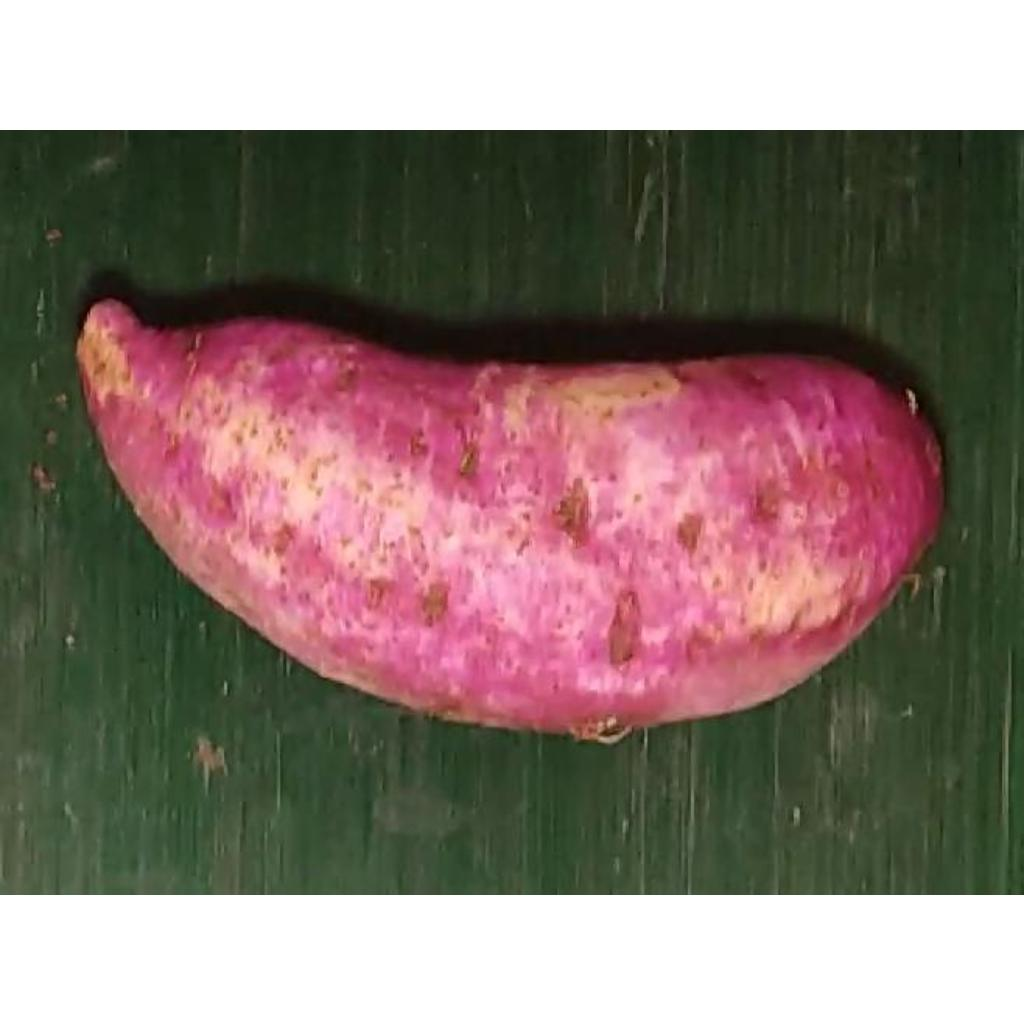Sweet Potato: (73, 295, 946, 743)
